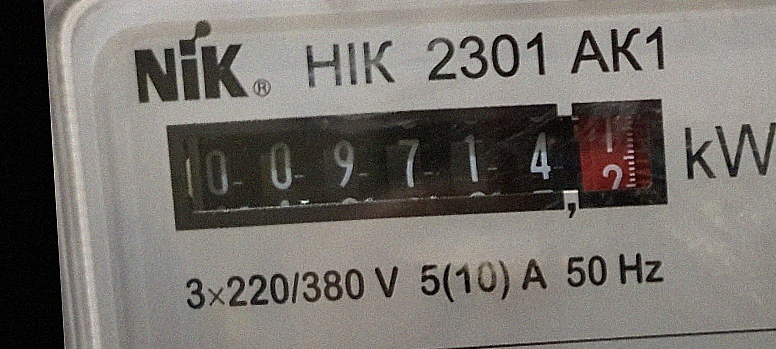0: (200, 144, 232, 199), (265, 137, 294, 192)
1: (459, 129, 484, 185), (599, 112, 616, 155)
2: (599, 159, 624, 191)
4: (523, 128, 555, 184)
7: (394, 135, 423, 190)
9: (327, 136, 358, 190)
screen: (150, 79, 685, 253)
